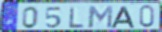0: (21, 6, 40, 30), (139, 5, 156, 29)
5: (44, 6, 62, 29)
A: (111, 6, 136, 29)
L: (69, 6, 85, 29)
M: (87, 5, 114, 29)
